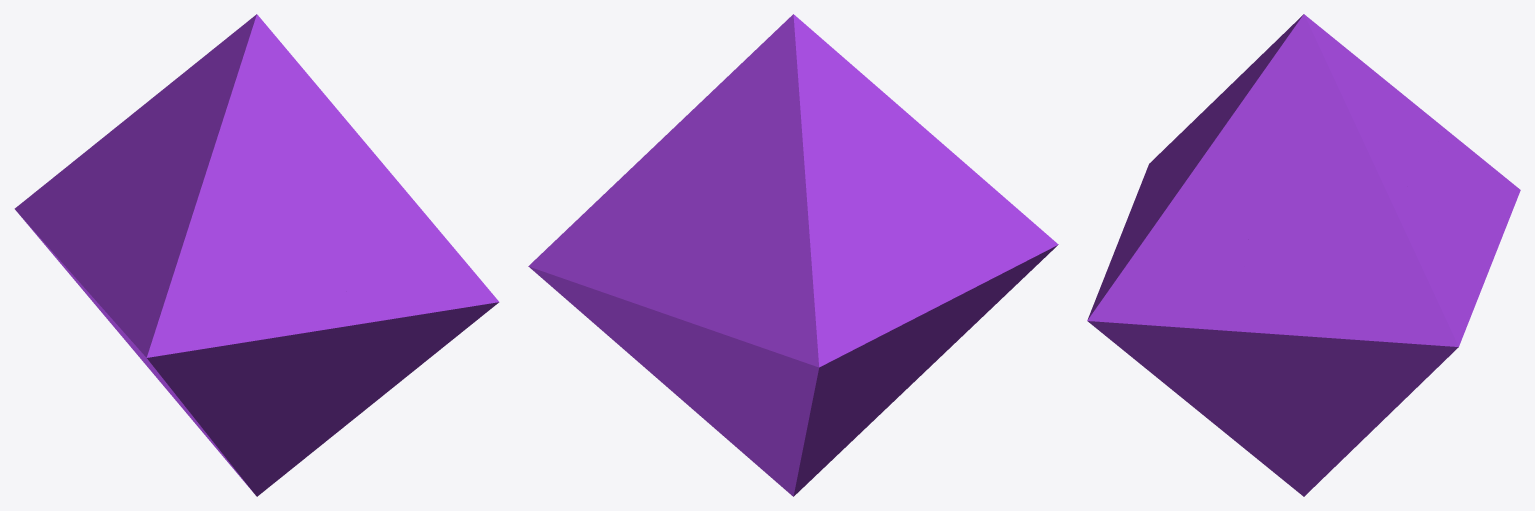
The model's file is Crystal.002_chunks.fbx.
The picture shows the model from 3 angles, left to right: view 1: azimuth 30°, elevation 25°; view 2: azimuth 150°, elevation 25°; view 3: azimuth 270°, elevation 25°; orthographic projection.
Visible parts, largest first — view 1: Crystal.002_14, Crystal.002_13, Crystal.002_11, Crystal.002_2, Crystal.002_18, Crystal.002_6, Crystal.002_3, Crystal.002_17, Crystal.002_15, Crystal.002_16, Crystal.002_1, Crystal.002_0 (+1 smaller); view 2: Crystal.002_11, Crystal.002_3, Crystal.002_7, Crystal.002_6, Crystal.002_5, Crystal.002_10, Crystal.002_9, Crystal.002_13, Crystal.002_14, Crystal.002_8, Crystal.002_1; view 3: Crystal.002_10, Crystal.002_2, Crystal.002_1, Crystal.002_11, Crystal.002_14, Crystal.002_12, Crystal.002_7, Crystal.002_8, Crystal.002_9, Crystal.002_3, Crystal.002_13, Crystal.002_18 (+1 smaller).
Boxes of the visible parts, x1,y1,x2,y2 form: Crystal.002_14: (181, 26, 405, 293); Crystal.002_13: (128, 197, 286, 355); Crystal.002_11: (109, 14, 266, 224); Crystal.002_2: (303, 205, 499, 332); Crystal.002_18: (197, 283, 425, 366); Crystal.002_6: (71, 186, 202, 393); Crystal.002_3: (14, 133, 145, 364); Crystal.002_17: (252, 349, 395, 441); Crystal.002_15: (191, 353, 290, 430); Crystal.002_16: (356, 306, 460, 384); Crystal.002_1: (239, 387, 393, 496); Crystal.002_0: (209, 406, 269, 474); Crystal.002_11: (688, 14, 922, 235); Crystal.002_3: (727, 229, 922, 437); Crystal.002_7: (545, 226, 739, 407); Crystal.002_6: (870, 230, 1058, 340); Crystal.002_5: (726, 310, 988, 490); Crystal.002_10: (528, 115, 701, 282); Crystal.002_9: (670, 135, 772, 308); Crystal.002_13: (913, 152, 1044, 232); Crystal.002_14: (824, 41, 952, 157); Crystal.002_8: (650, 372, 726, 428); Crystal.002_1: (710, 424, 834, 496); Crystal.002_10: (1241, 147, 1462, 377); Crystal.002_2: (1087, 203, 1280, 372); Crystal.002_1: (1174, 365, 1352, 496); Crystal.002_11: (1287, 14, 1439, 158); Crystal.002_14: (1147, 27, 1294, 213); Crystal.002_12: (1158, 131, 1350, 245); Crystal.002_7: (1376, 215, 1501, 415); Crystal.002_8: (1264, 344, 1387, 448); Crystal.002_9: (1378, 148, 1484, 220); Crystal.002_3: (1436, 122, 1520, 238); Crystal.002_13: (1138, 104, 1210, 200); Crystal.002_18: (1100, 191, 1147, 287).
Bounding box in the file's own units: 833 × 1024 × 833.
